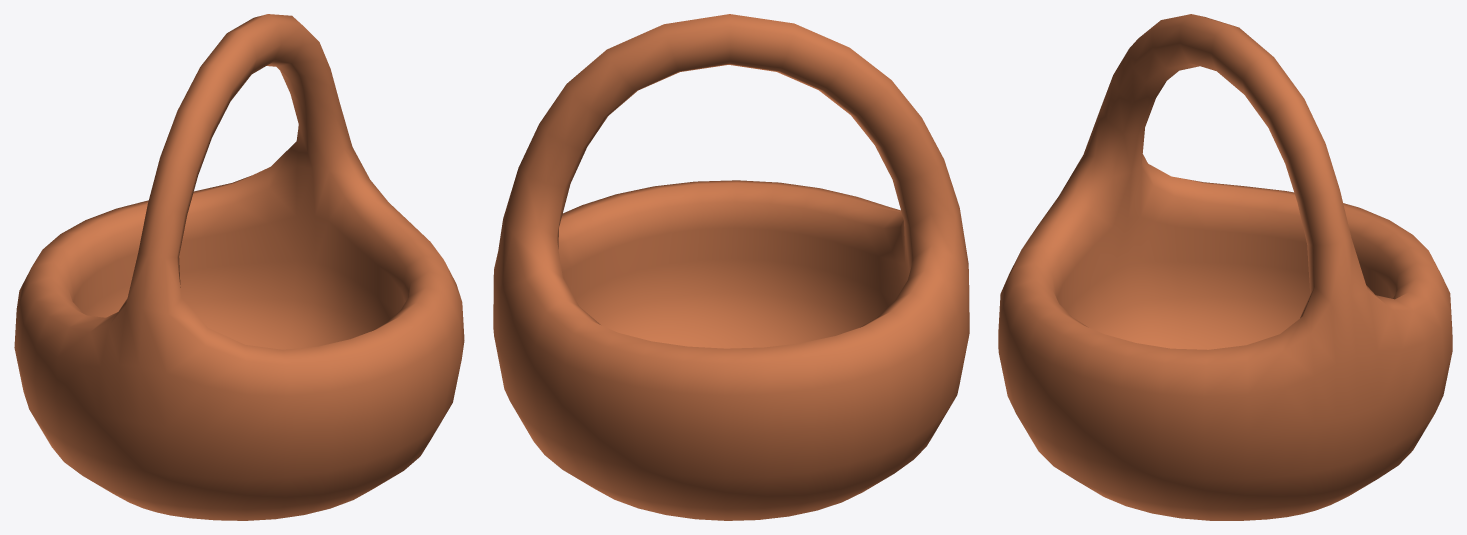
The model's file is Farmhouse_ROOM_basket_v01.glb.
The picture shows the model from 3 angles, left to right: view 1: azimuth 30°, elevation 25°; view 2: azimuth 150°, elevation 25°; view 3: azimuth 270°, elevation 25°; orthographic projection. The views are drawn at different scales.
Visible parts, largest first — view 1: Farmhouse_ROOM_basket_v01; view 2: Farmhouse_ROOM_basket_v01; view 3: Farmhouse_ROOM_basket_v01.
Boxes of the visible parts, <box> form: Farmhouse_ROOM_basket_v01: <box>14,14,464,520</box>; Farmhouse_ROOM_basket_v01: <box>493,14,969,520</box>; Farmhouse_ROOM_basket_v01: <box>998,14,1452,520</box>.
Bounding box in the file's own units: 0.5392 × 0.602 × 0.5383.
